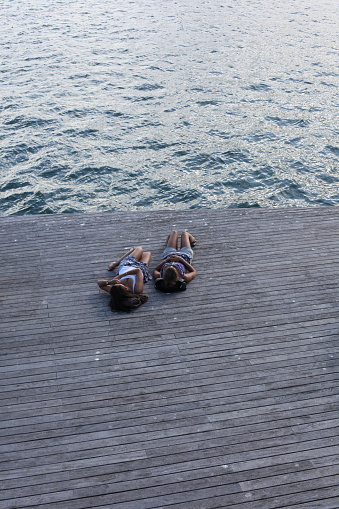deitado: (136, 233, 200, 285)
